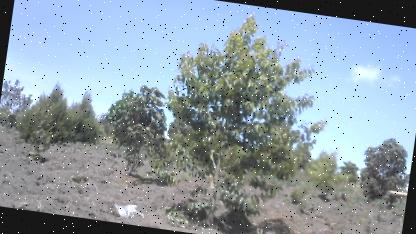tree: (147, 2, 342, 234), (352, 131, 416, 213)
